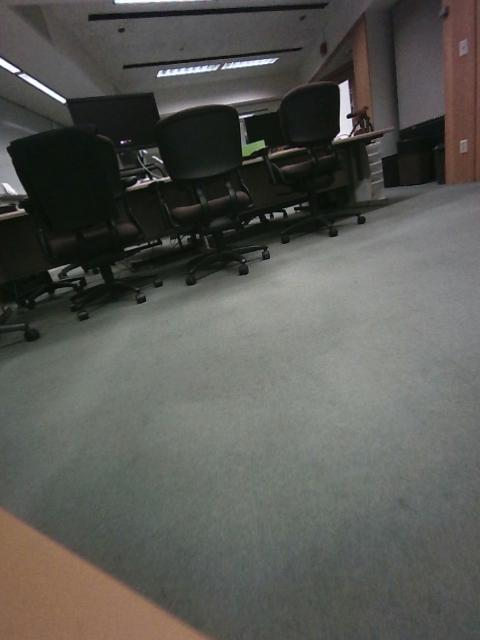block: (228, 389, 301, 466)
